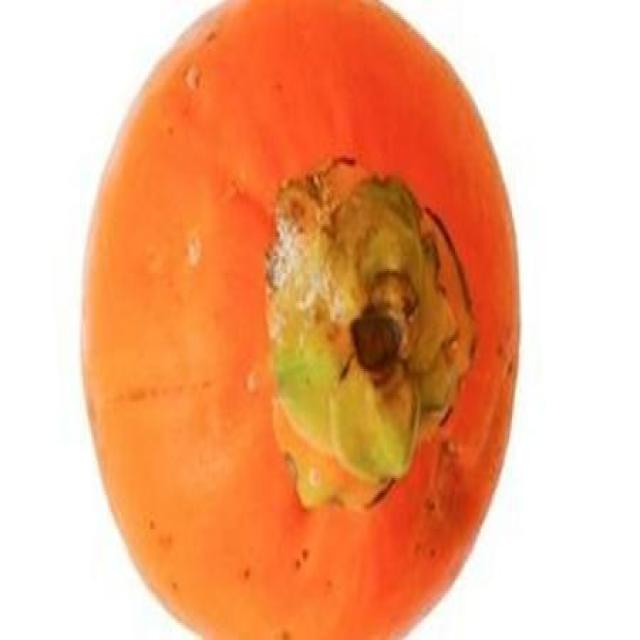good: (78, 0, 523, 638)
